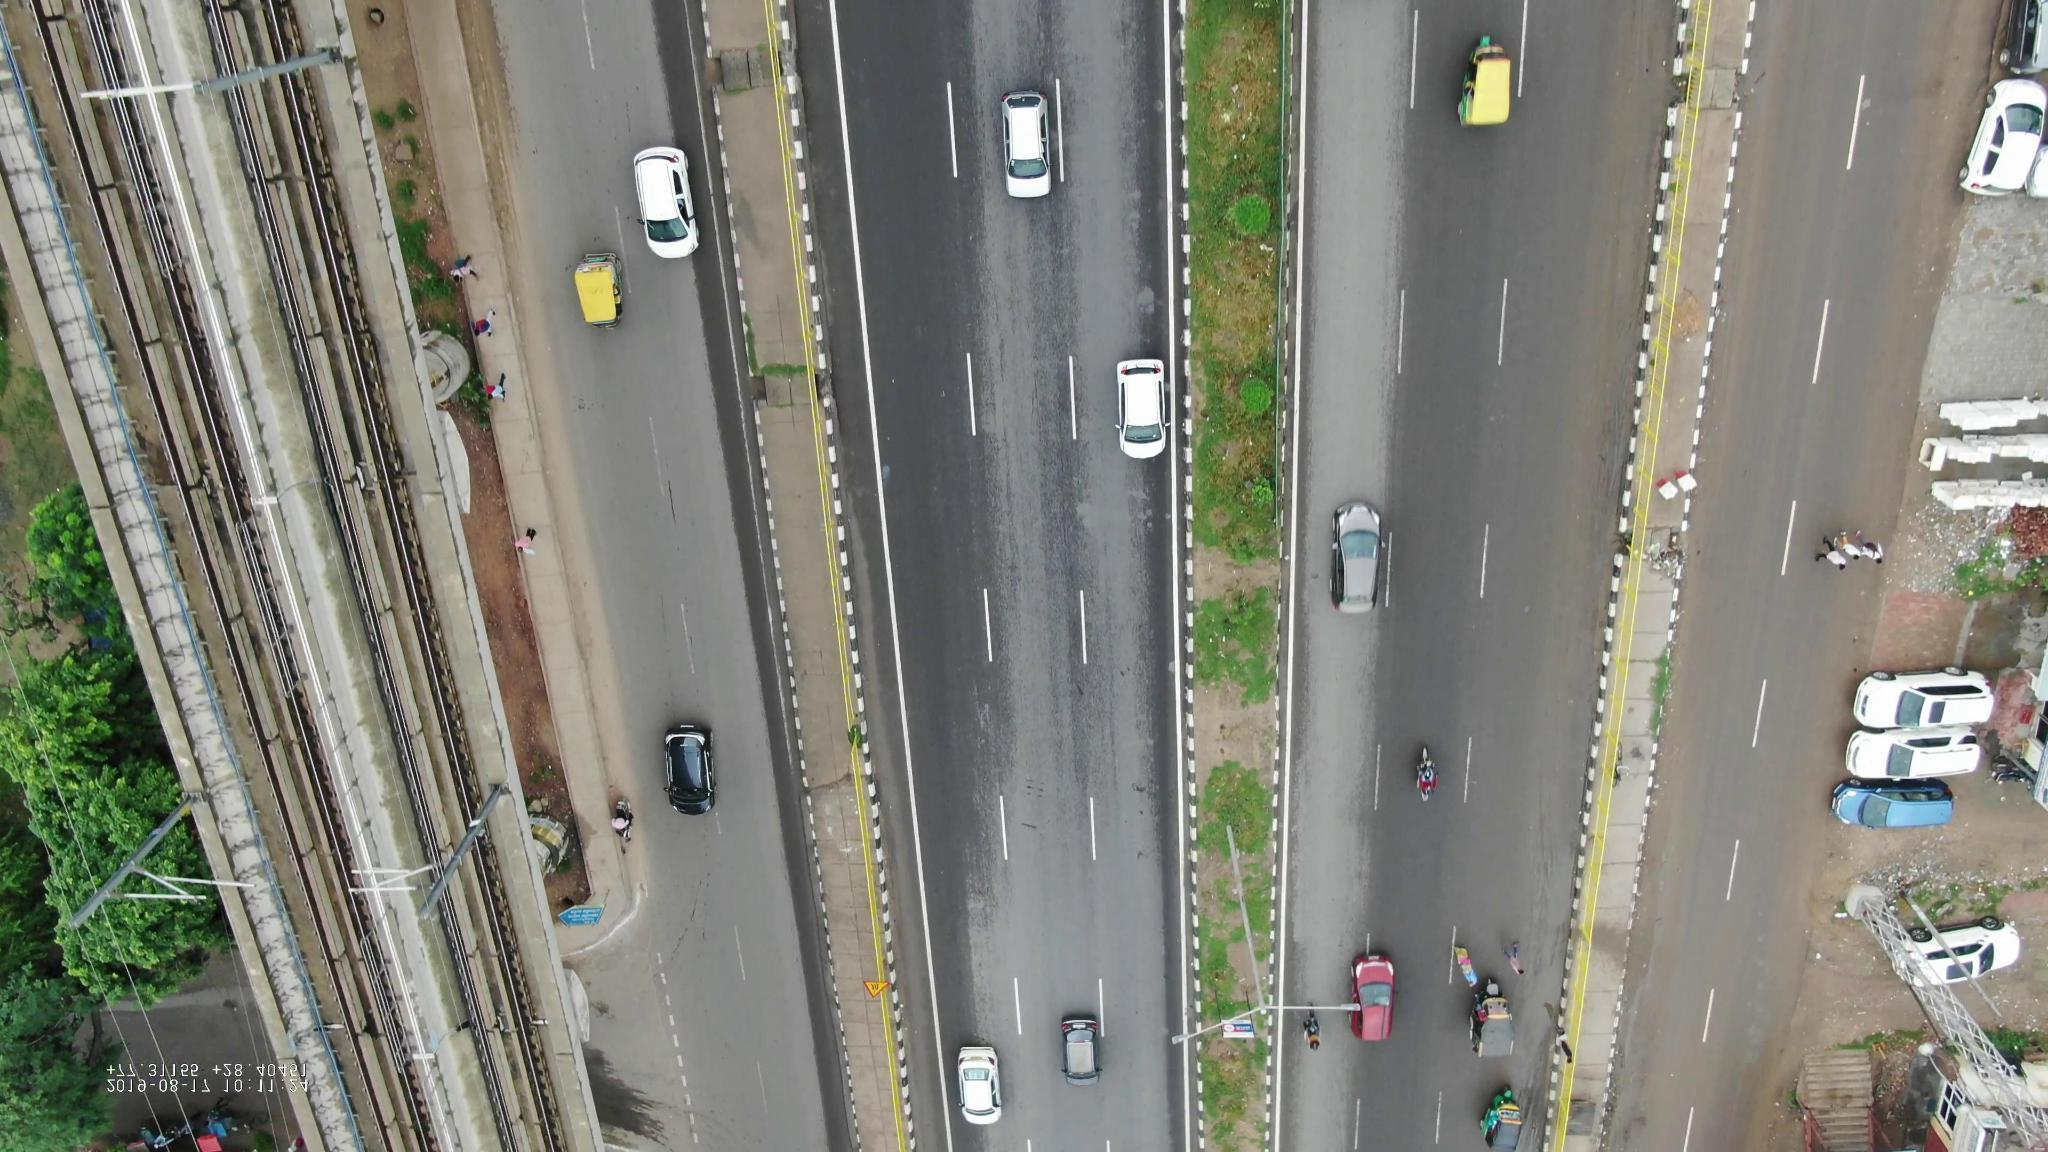Muddy_road: (1566, 193, 1649, 404), (1912, 10, 1990, 153), (1656, 791, 1734, 923), (1620, 955, 1694, 1079), (1789, 833, 1838, 895)
